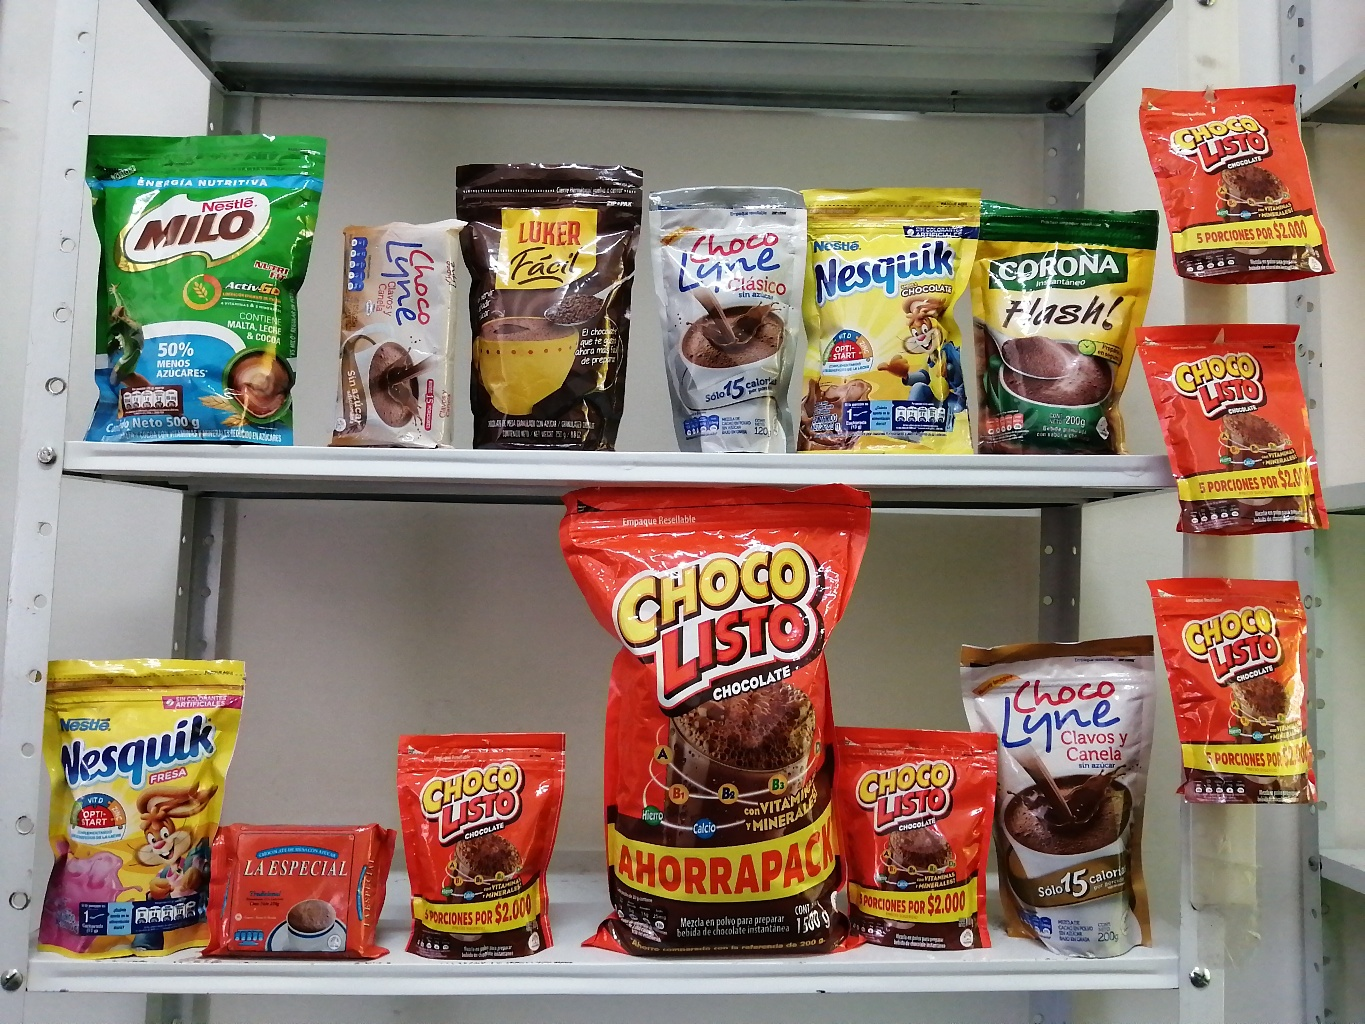COL0170103DYP1,500: (545, 483, 863, 957)
COL0170205DYP50000: (83, 130, 332, 447)
COL0170303DYP20000: (804, 183, 981, 458)
COL0170305DYP20000: (31, 651, 247, 959)
